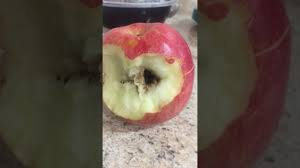damaged_apple: (102, 39, 183, 128)
